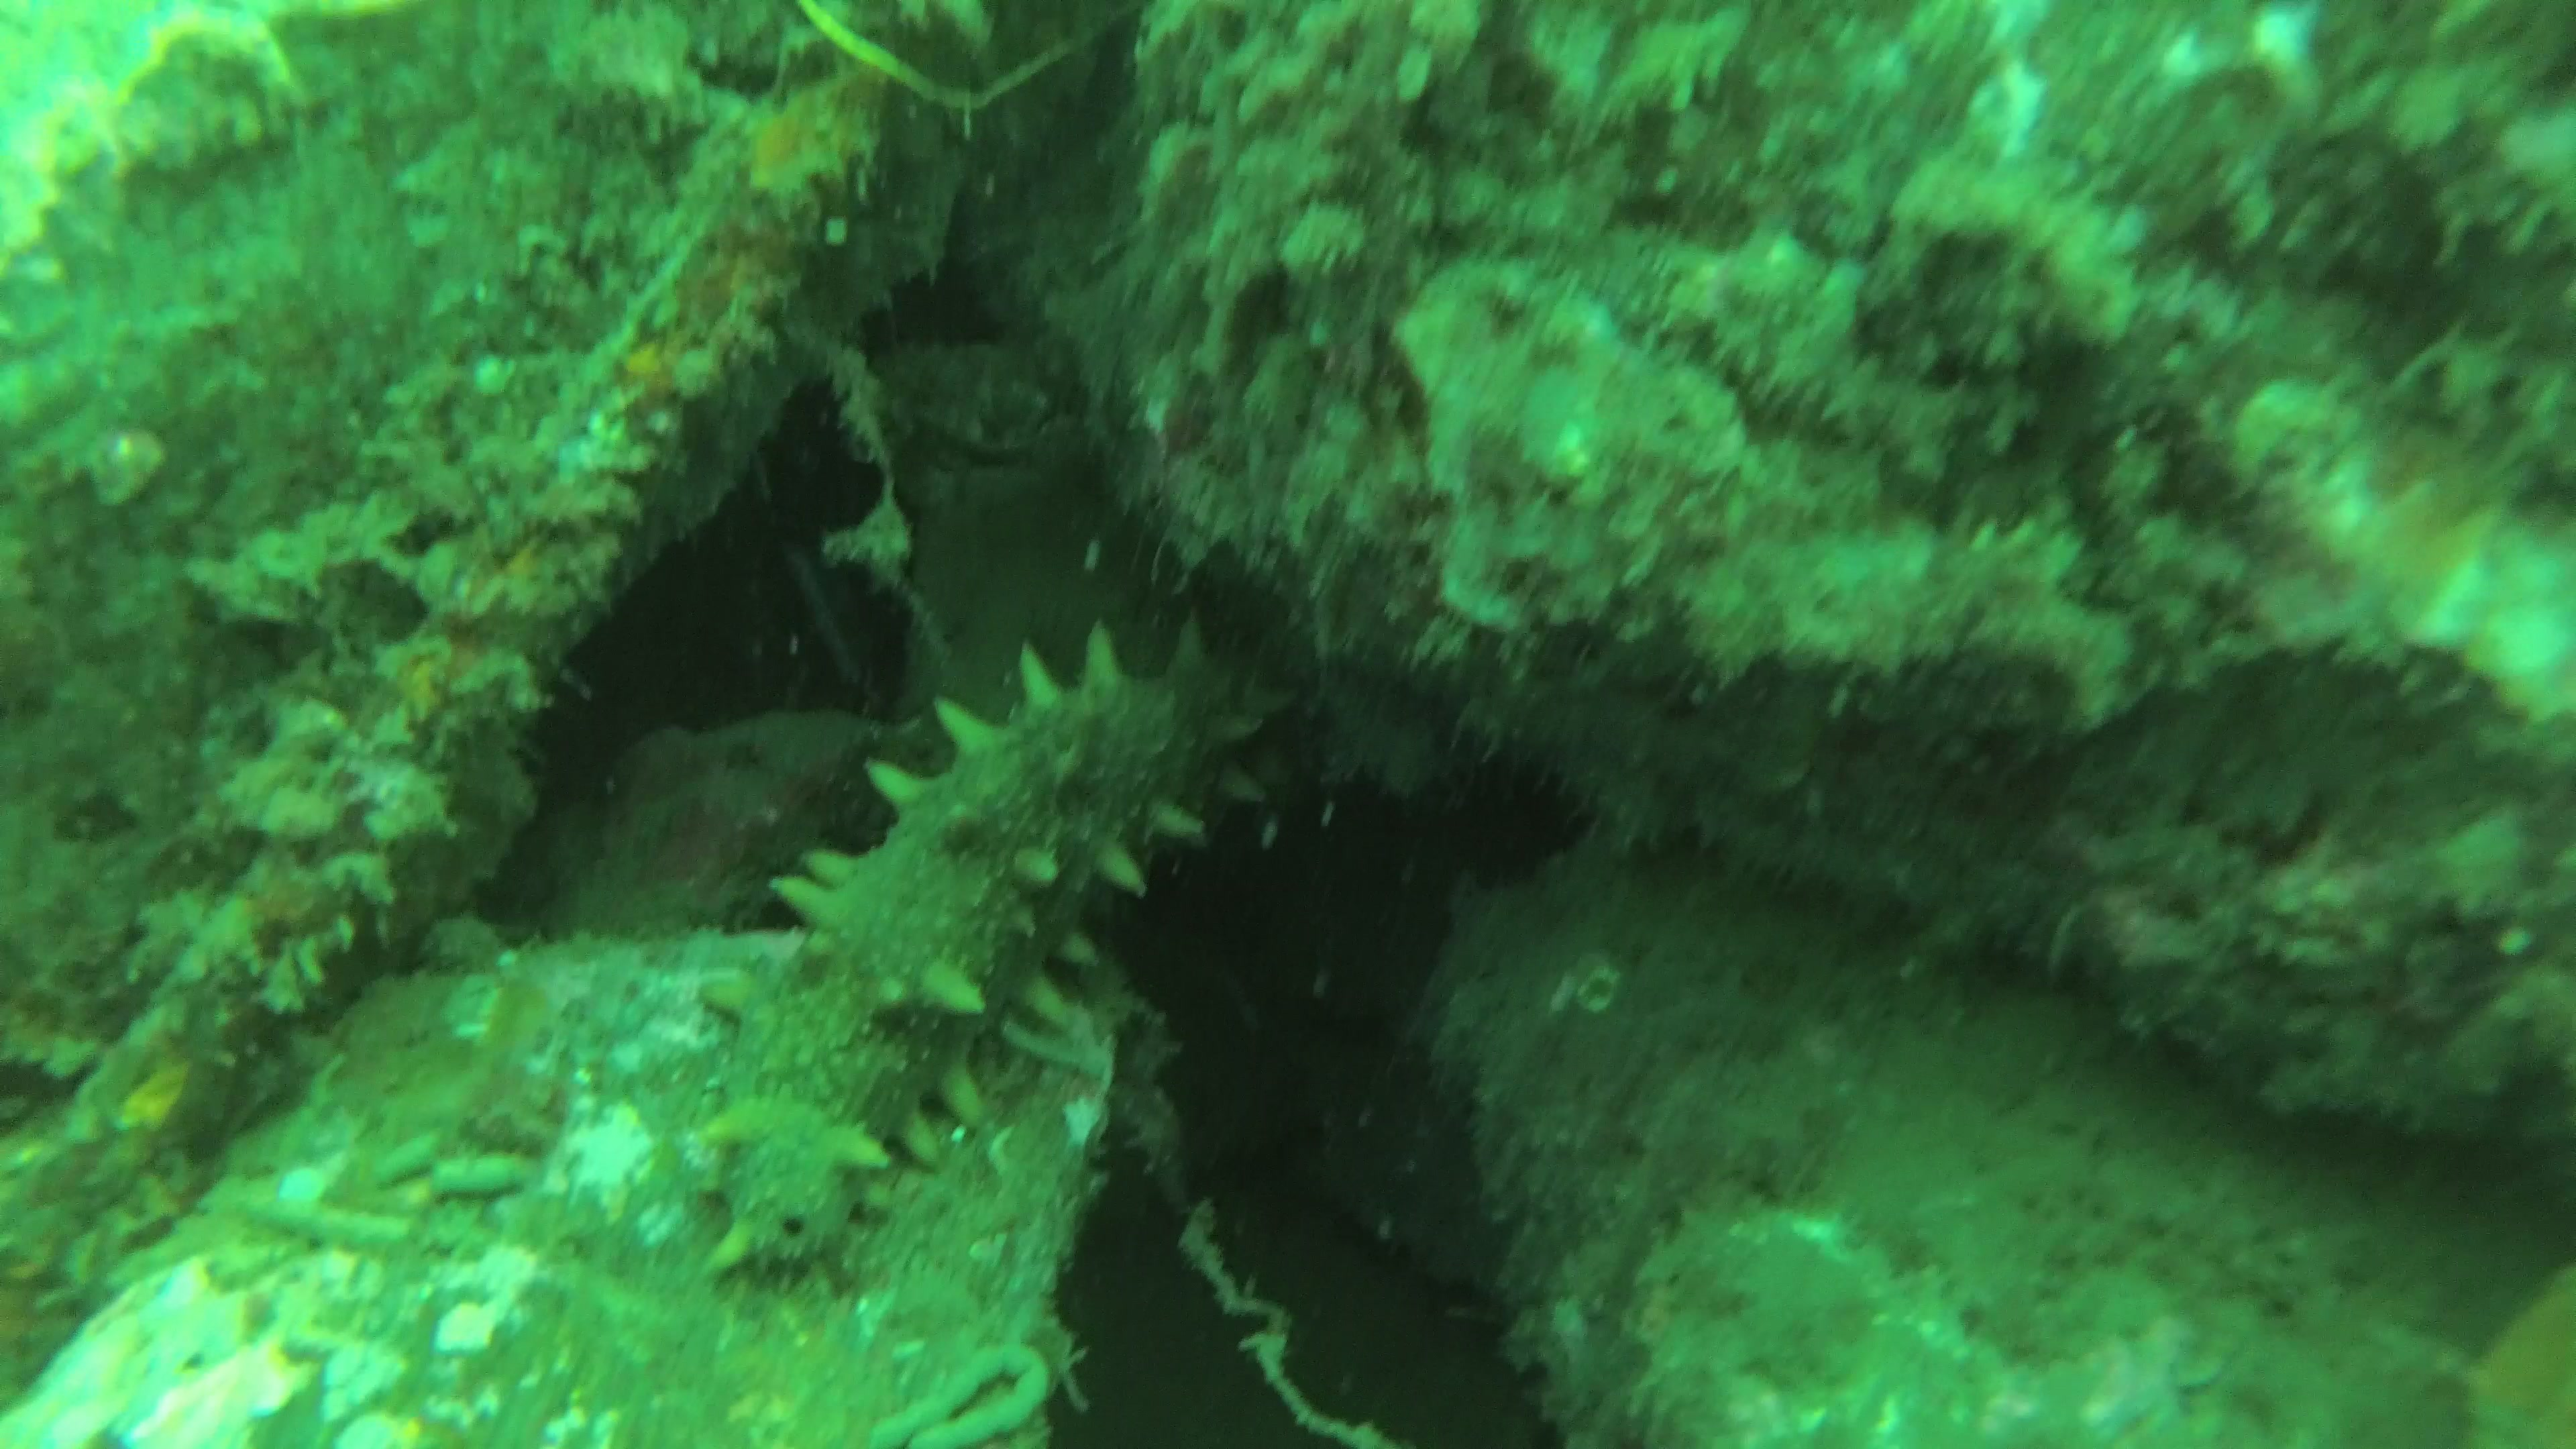holothurian: (686, 614, 1304, 1302)
